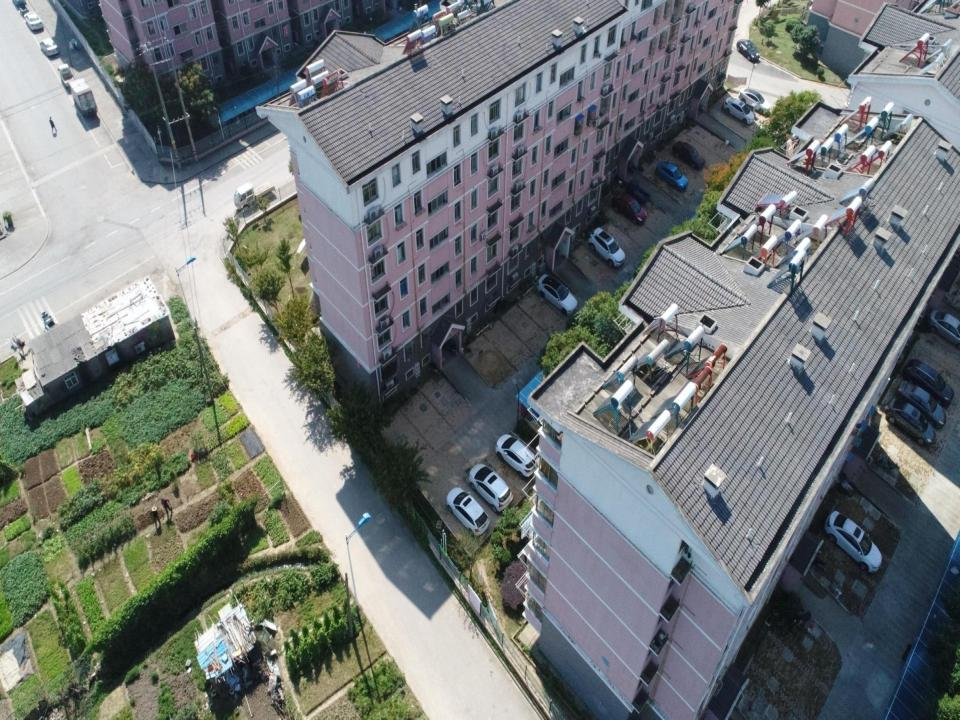car: (824, 510, 882, 574), (884, 395, 936, 445), (895, 379, 946, 429), (902, 358, 954, 406), (468, 462, 514, 514), (445, 486, 490, 538), (494, 432, 538, 480), (536, 270, 579, 316), (588, 225, 626, 267), (928, 309, 959, 348), (612, 191, 647, 225), (654, 159, 689, 192), (672, 140, 706, 170), (723, 96, 755, 125), (738, 86, 770, 115), (736, 38, 761, 61), (23, 11, 44, 31), (38, 38, 60, 56), (11, 0, 26, 7)
truck: (233, 180, 275, 212), (68, 78, 96, 116), (624, 178, 650, 206), (57, 63, 75, 89)
